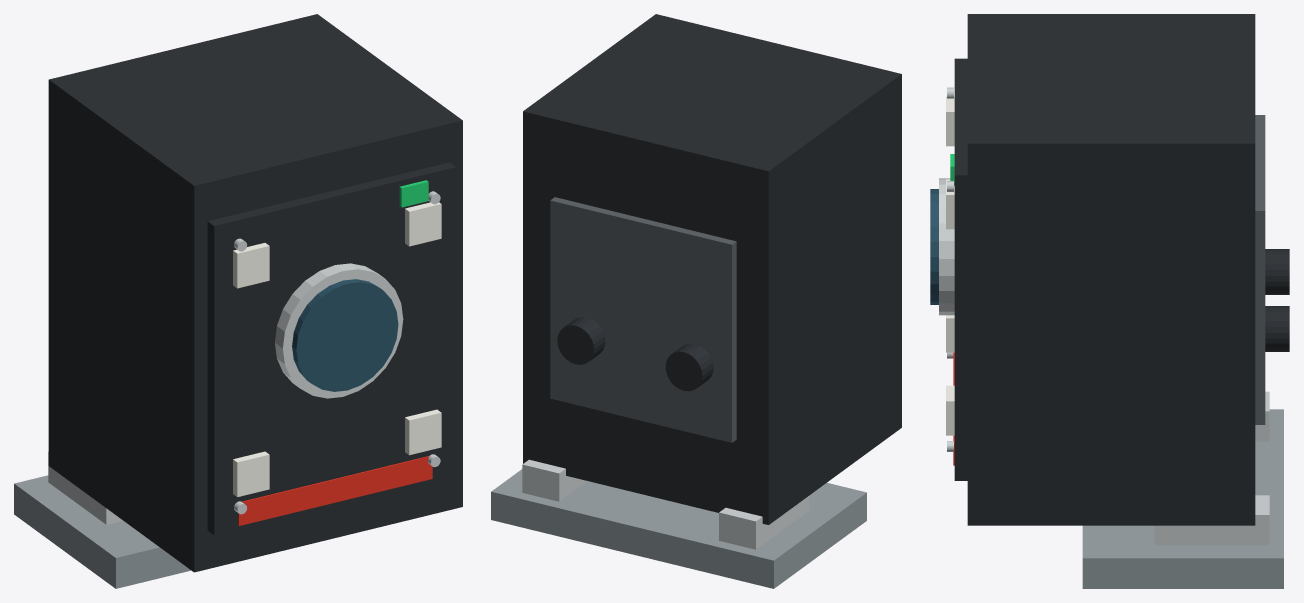
The picture shows the model from 3 angles, left to right: view 1: azimuth 30°, elevation 25°; view 2: azimuth 150°, elevation 25°; view 3: azimuth 270°, elevation 25°; orthographic projection. The views are drawn at different scales.
Visible parts, largest first — view 1: housing, front bezel, optical lens, Mount bracket, red identification stripe, lens surround, illumination emitter, illumination emitter.002, illumination emitter.003, illumination emitter.001, mounting flange, status indicator; view 2: housing, Rear connector plate, Mount bracket, mounting flange, mounting flange.001, Electrical connector.001, Electrical connector; view 3: housing, Mount bracket, front bezel, Rear connector plate, mounting flange.001, lens surround, Electrical connector, Electrical connector.001, optical lens.
Part boxes in pixels (box(x1,y1,x2,y2)): housing: box(48, 14, 462, 572); front bezel: box(207, 162, 455, 535); optical lens: box(292, 279, 398, 391); Mount bracket: box(14, 475, 190, 588); red identification stripe: box(238, 456, 432, 525); lens surround: box(275, 263, 403, 398); illumination emitter: box(233, 451, 269, 496); illumination emitter.002: box(405, 409, 441, 455); illumination emitter.003: box(405, 202, 441, 246); illumination emitter.001: box(233, 243, 269, 288); mounting flange: box(48, 451, 122, 524); status indicator: box(399, 180, 428, 207); housing: box(523, 14, 901, 524); Rear connector plate: box(550, 197, 736, 442); Mount bracket: box(491, 469, 866, 588); mounting flange: box(719, 496, 809, 549); mounting flange.001: box(522, 459, 586, 501); Electrical connector.001: box(557, 317, 605, 364); Electrical connector: box(665, 343, 713, 391); housing: box(967, 14, 1255, 525); Mount bracket: box(1082, 409, 1283, 588); front bezel: box(954, 58, 967, 480); Rear connector plate: box(1255, 115, 1265, 424); mounting flange.001: box(1154, 495, 1269, 545); lens surround: box(939, 178, 954, 315); Electrical connector: box(1265, 249, 1289, 294); Electrical connector.001: box(1265, 306, 1289, 351); optical lens: box(930, 189, 938, 304).
Size of the model in its own units: 0.184 by 0.2508 by 0.1875.
